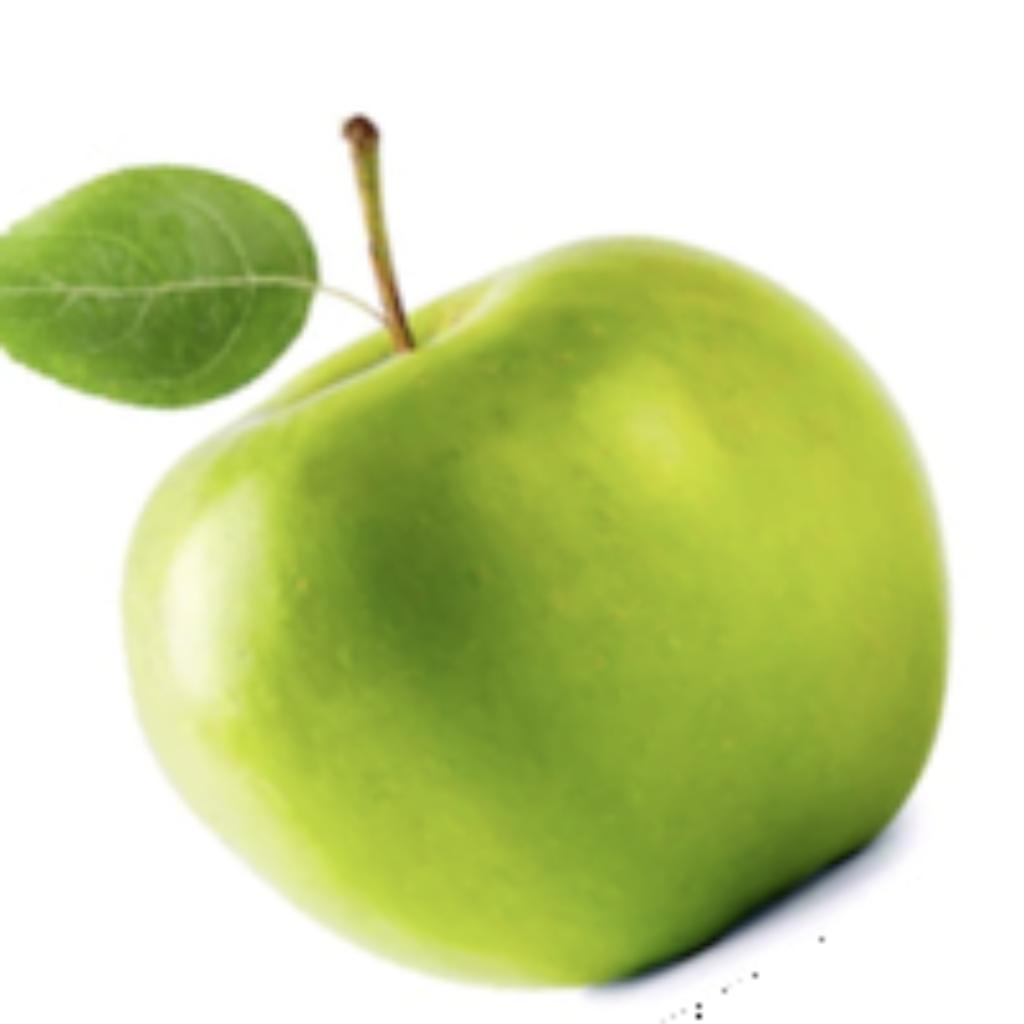apple: (0, 108, 957, 1004)
